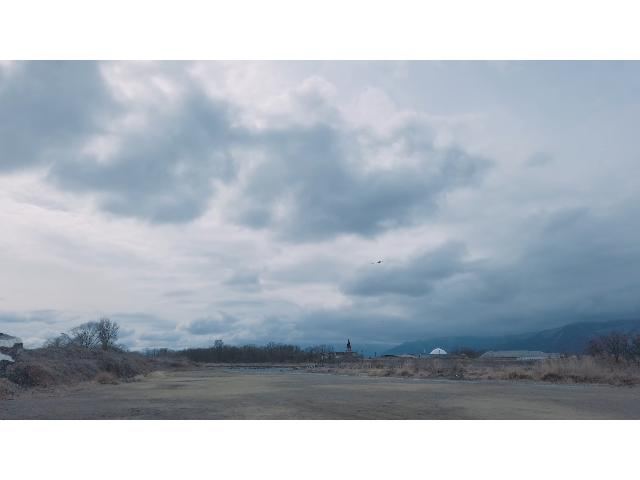Anti-Drone: (366, 256, 390, 268)
